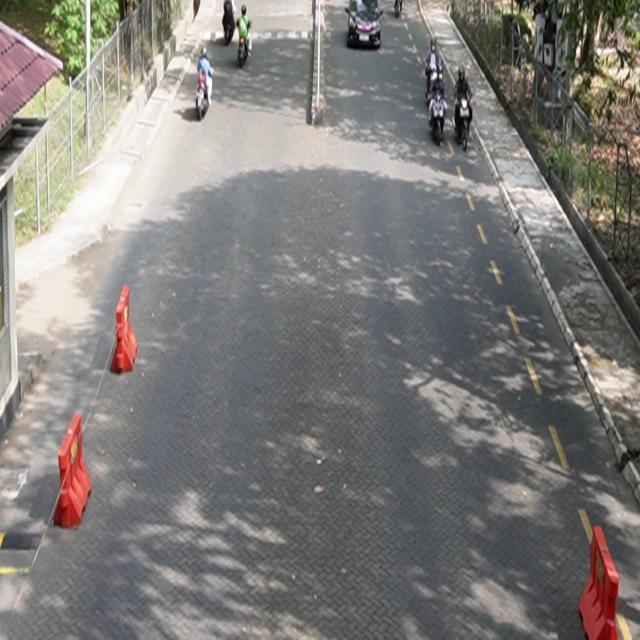car: (346, 1, 384, 50)
